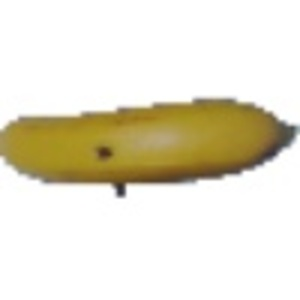banana: (1, 91, 296, 187)
